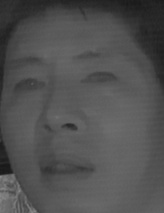eye: (80, 67, 118, 91), (12, 75, 45, 95)
mouth: (35, 147, 96, 186)
